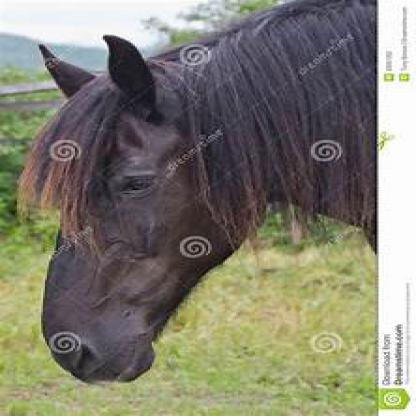horse: (13, 0, 379, 386)
